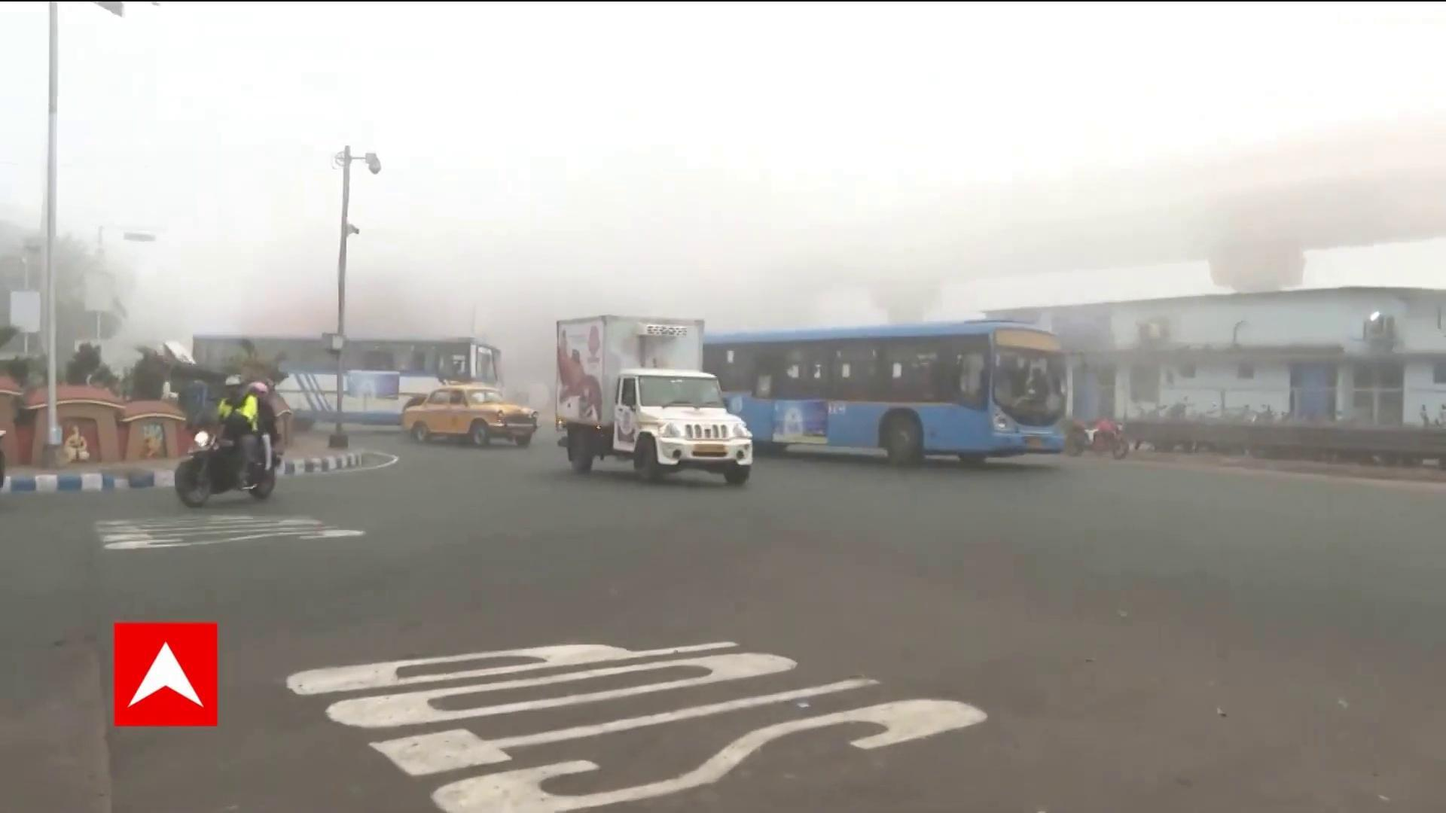Bike: (177, 368, 281, 512)
Bus: (708, 322, 1073, 476), (192, 328, 501, 433)
Car: (397, 381, 537, 447)
Truck: (546, 311, 755, 484)
